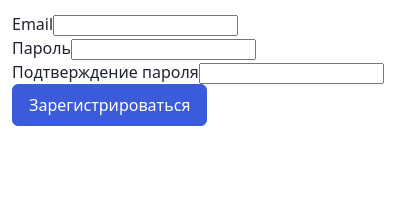
Scenario: SignupForm › показывает ошибку, если пароль короче 8 символов
This screenshot has width=412, height=199.
Type "a@b.co" into the field labelled "Email". click: (146, 26)
box: [53,15,238,36]
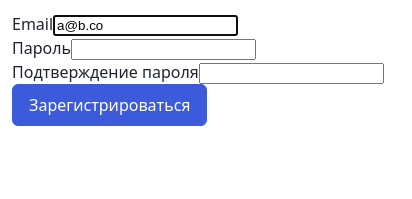
Type "1234567" into the password field labelled "Пароль". click: (164, 50)
box: [71,39,256,60]
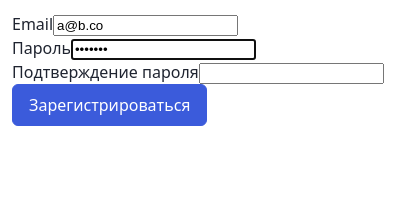
Type "1234567" into the password field labelled "Подтверждение пароля". click: (291, 74)
box: [199,63,384,84]
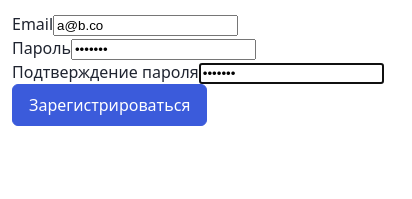
Click the button "Зарегистрироваться". click: (110, 105)
box: [12,84,207,126]
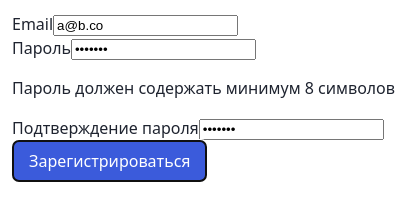
Now the text "Пароль должен содержать минимум 8 символов" is shown, box [12,77,395,99]
